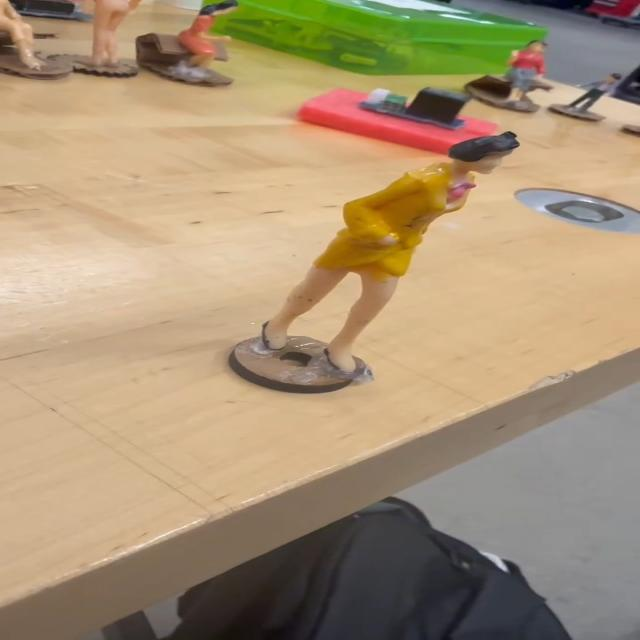Authorized: (238, 127, 540, 381)
